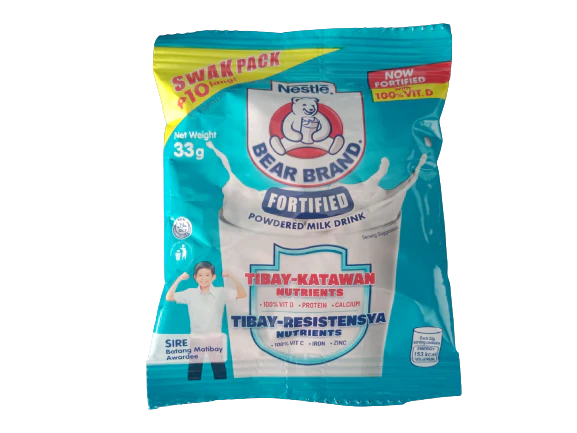non-toxic_waste: (157, 32, 462, 401)
